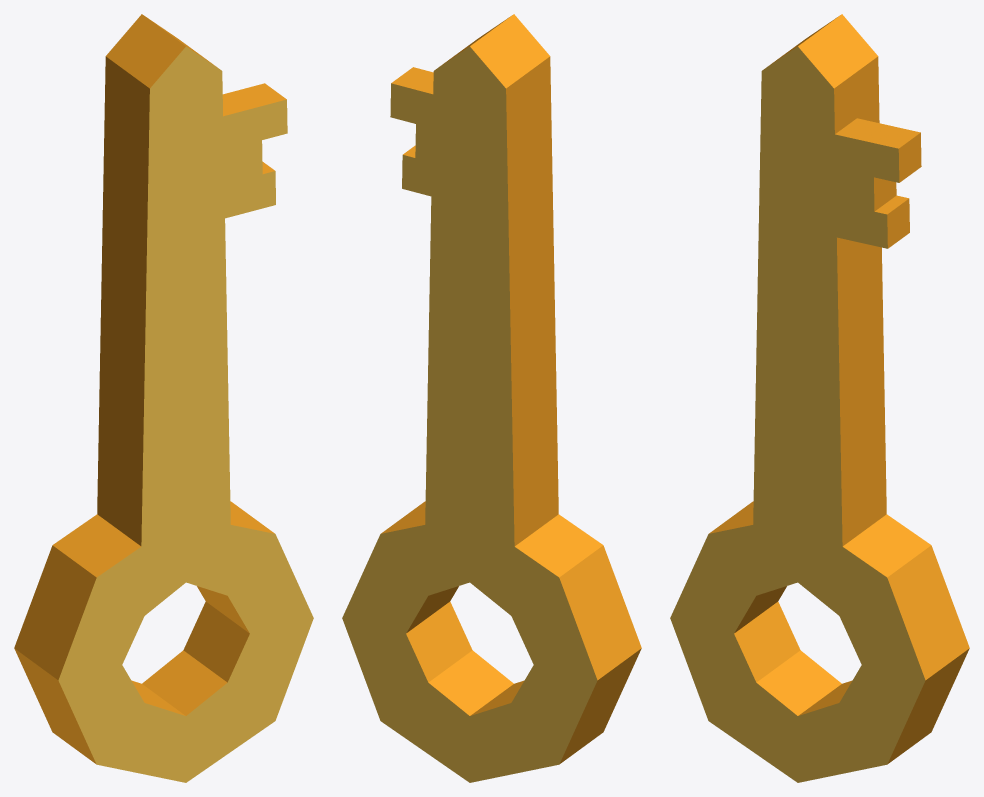
File: key.fbx
The picture shows the model from 3 angles, left to right: view 1: azimuth 30°, elevation 25°; view 2: azimuth 150°, elevation 25°; view 3: azimuth 330°, elevation 25°; orthographic projection.
Parts seen in each view (by area): view 1: Cube; view 2: Cube; view 3: Cube.
Part boxes in pixels (bbox=[...]): Cube: bbox=[14, 14, 313, 782]; Cube: bbox=[342, 14, 641, 782]; Cube: bbox=[670, 14, 969, 782].
Bounding box in the file's own units: 100 × 276 × 30.
